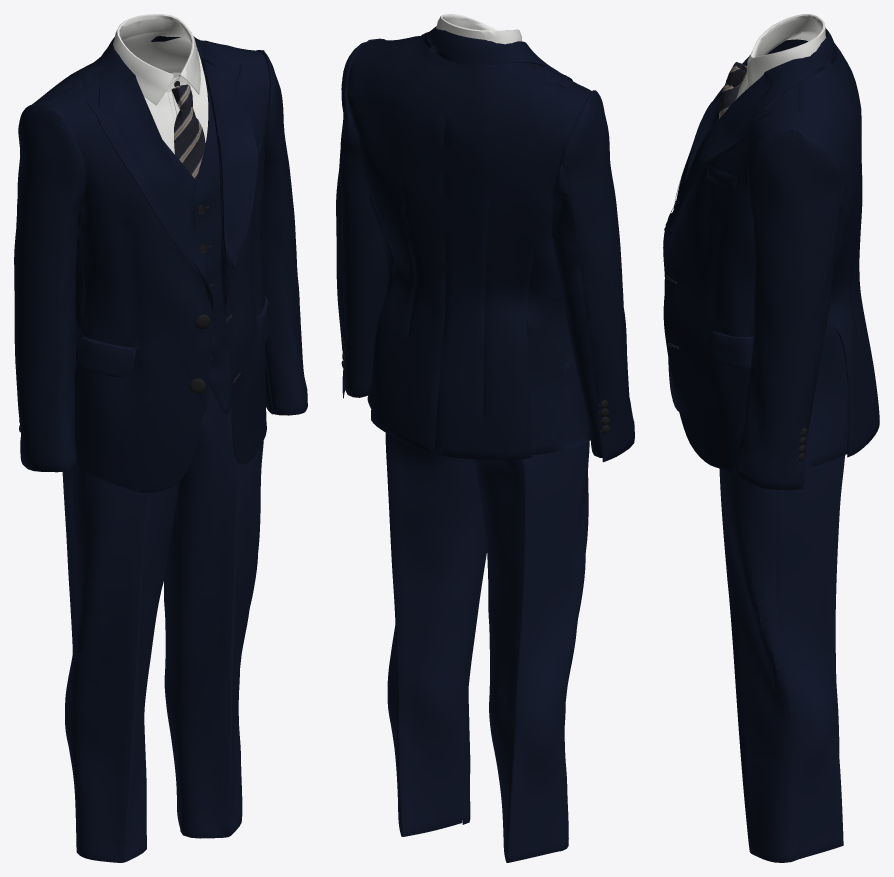
Rendered from MW_Tailleur_suit_v4_blender_collarfix4_peak_step2d_shoulders.glb.
3 renders of one model, left to right at view 1: azimuth 30°, elevation 25°; view 2: azimuth 150°, elevation 25°; view 3: azimuth 270°, elevation 25°, orthographic. The views are drawn at different scales.
Parts seen in each view (by area): view 1: Jacket, Trousers, Shirt, Waistcoat, Tie, Trim; view 2: Jacket, Trousers, Shirt; view 3: Jacket, Trousers, Shirt, Tie.
Boxes of the visible parts, left/top/right/bottom form: Jacket: left=14, top=36, right=307, bottom=492; Trousers: left=62, top=383, right=263, bottom=862; Shirt: left=113, top=14, right=208, bottom=154; Waistcoat: left=75, top=44, right=231, bottom=413; Tie: left=172, top=84, right=205, bottom=179; Trim: left=19, top=81, right=210, bottom=432; Jacket: left=336, top=26, right=634, bottom=462; Trousers: left=385, top=339, right=589, bottom=862; Shirt: left=436, top=14, right=522, bottom=44; Jacket: left=663, top=28, right=879, bottom=489; Trousers: left=719, top=455, right=845, bottom=862; Shirt: left=735, top=14, right=825, bottom=100; Tie: left=719, top=62, right=746, bottom=118.
Size of the model in its own units: 0.5389 by 1.5 by 0.3678.
Materials: 8 (4 with a texture image).
